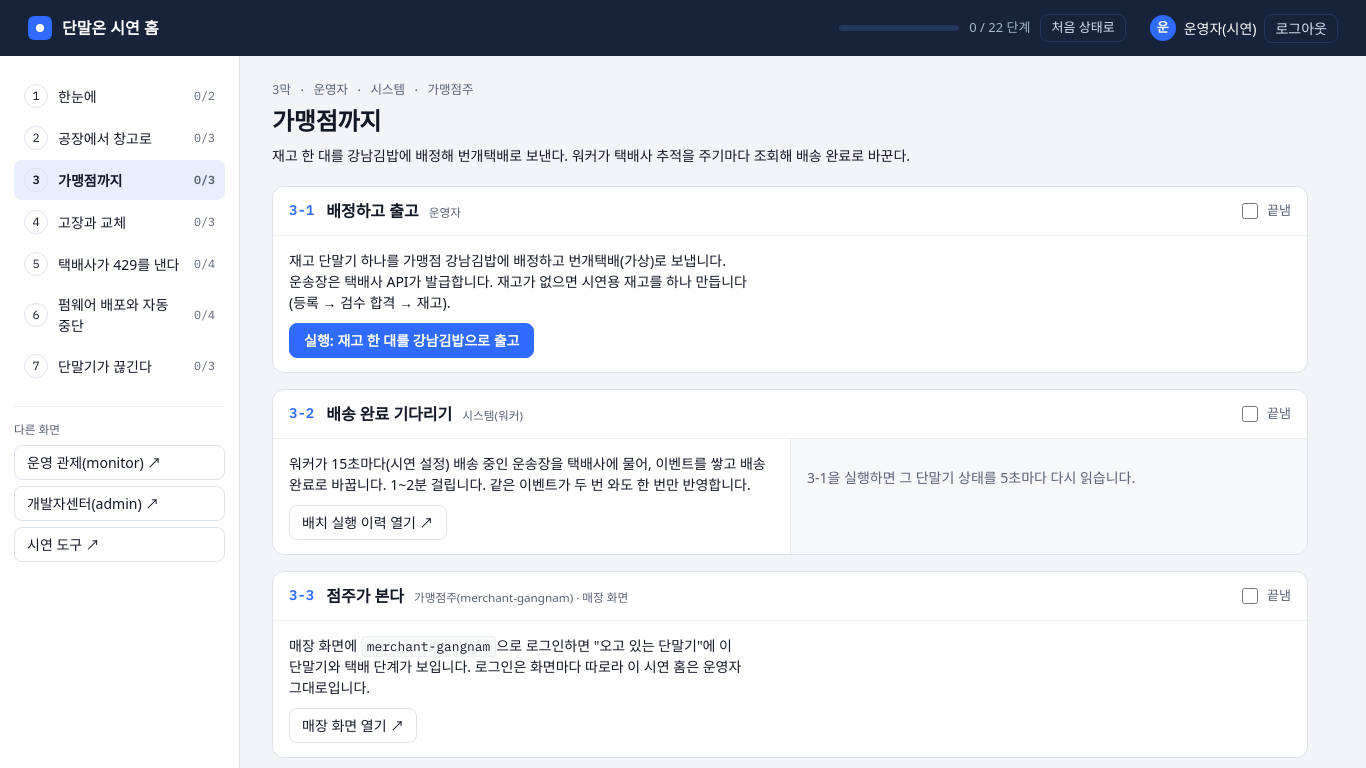
Test: 막 3 가맹점까지 › 실행: 재고 → 강남김밥 배정 → 번개 출고, 끝냄 표시, 다음 단계가 그 단말기 상태를 읽는다
The width and height of the screenshot is (1366, 768).
Click the button "실행: 재고 한 대를 강남김밥으로 출고".
click(412, 340)  # box [289,323,534,358]
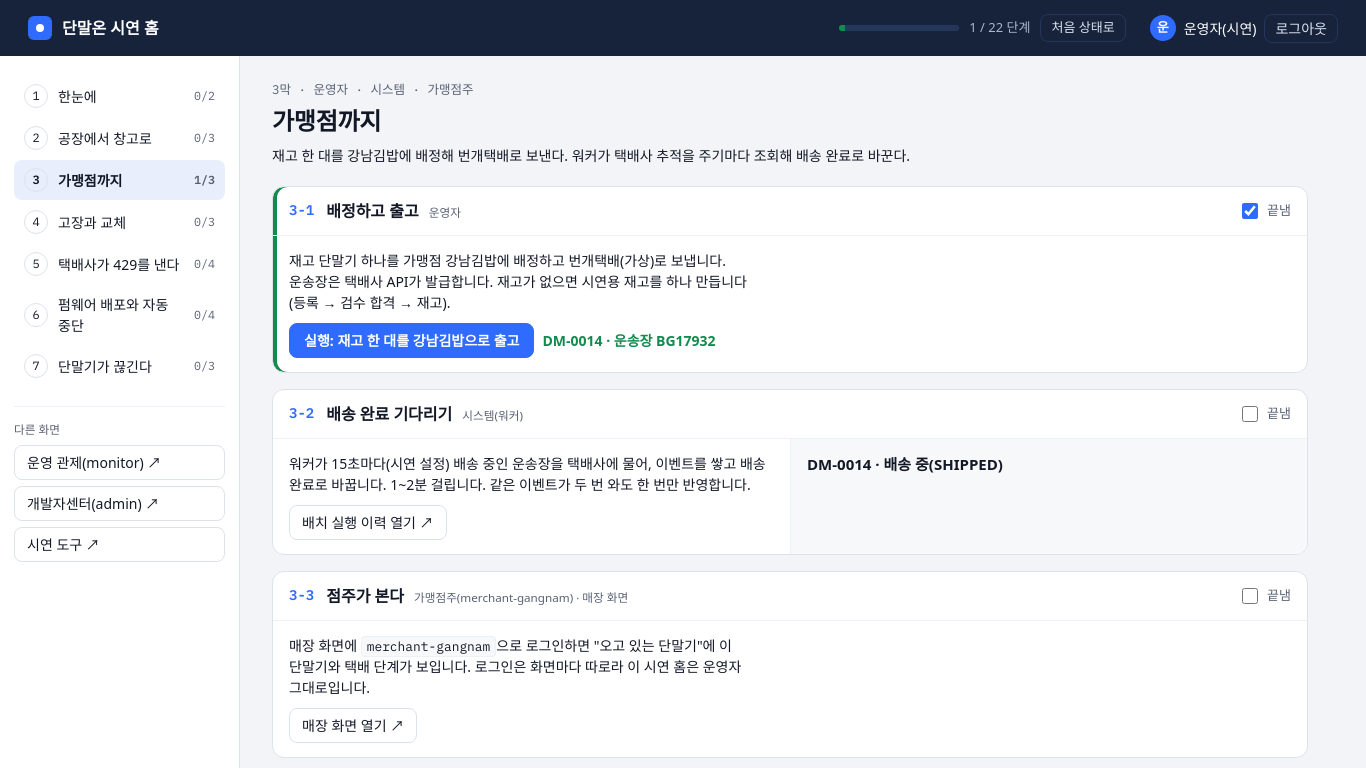
Expected: the text "DM-0014 · 운송장 BG17932" is shown, [542,330,716,351]
Expected: the checkbox labelled "끝냄" in the row of "배정하고 출고" is checked, [1242,203,1258,219]
Expected: the text "DM-0014 · 배송 중(SHIPPED)" is shown, [807,454,1003,474]
